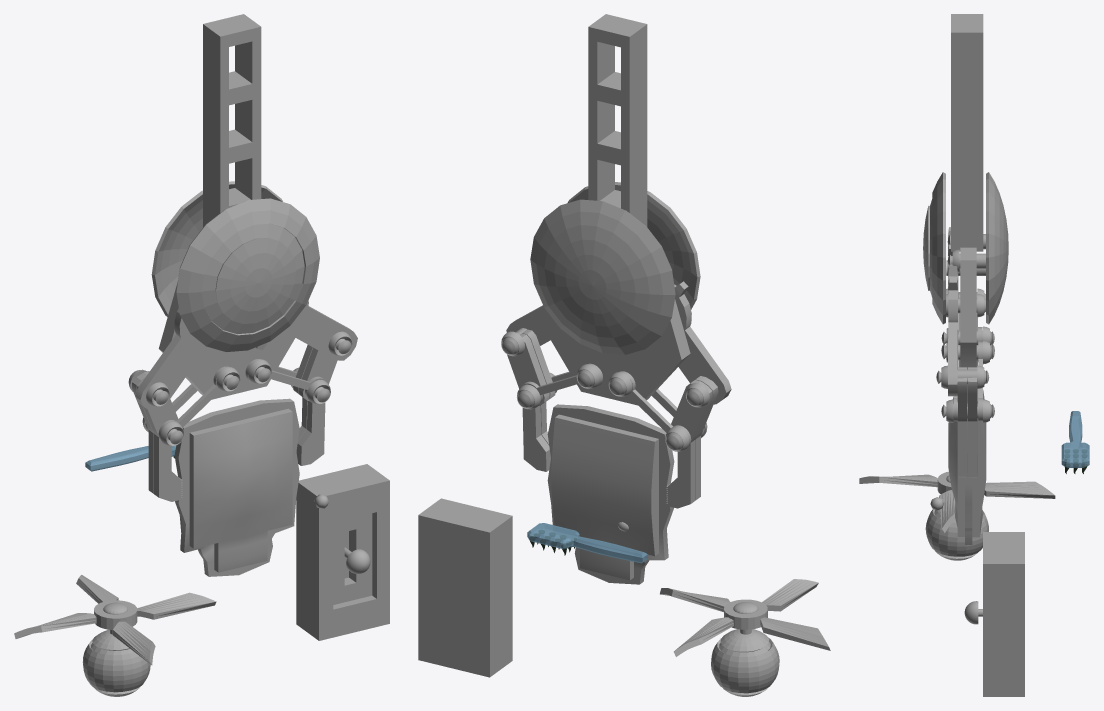
The picture shows the model from 3 angles, left to right: view 1: azimuth 30°, elevation 25°; view 2: azimuth 150°, elevation 25°; view 3: azimuth 270°, elevation 25°; orthographic projection. The views are drawn at different scales.
Visible parts, largest first — view 1: pSphere7, pCube55, pCube83, pCube77, polySurface60, pCube60, polySurface33, polySurface19, polySurface2, polySurface32, toothbrush:polySurface1, polySurface15 (+1 smaller); view 2: pSphere7, pCube55, pCube83, pCube77, polySurface60, pCube60, polySurface33, polySurface2, polySurface19, toothbrush:polySurface1, polySurface32, polySurface17; view 3: pCube77, pCube83, pSphere7, polySurface60, pCube55, polySurface33, pCube60, polySurface32, toothbrush:polySurface1, polySurface34, polySurface35, polySurface37.
Part boxes in pixels (x1=…): pSphere7: x1=151, y1=181, x2=319, y2=351; pCube55: x1=174, y1=398, x2=299, y2=576; pCube83: x1=296, y1=464, x2=389, y2=640; pCube77: x1=203, y1=14, x2=261, y2=227; polySurface60: x1=14, y1=575, x2=216, y2=696; pCube60: x1=158, y1=281, x2=295, y2=399; polySurface33: x1=293, y1=345, x2=337, y2=465; polySurface19: x1=135, y1=308, x2=216, y2=412; polySurface2: x1=132, y1=371, x2=181, y2=501; polySurface32: x1=256, y1=300, x2=357, y2=360; toothbrush:polySurface1: x1=85, y1=445, x2=176, y2=471; polySurface15: x1=158, y1=366, x2=229, y2=439; pSphere7: x1=530, y1=182, x2=700, y2=354; pCube55: x1=547, y1=404, x2=674, y2=584; pCube83: x1=418, y1=498, x2=512, y2=677; pCube77: x1=588, y1=14, x2=647, y2=226; polySurface60: x1=660, y1=579, x2=830, y2=696; pCube60: x1=542, y1=299, x2=690, y2=405; polySurface33: x1=507, y1=329, x2=555, y2=471; polySurface2: x1=668, y1=376, x2=718, y2=508; polySurface19: x1=674, y1=281, x2=731, y2=404; toothbrush:polySurface1: x1=527, y1=523, x2=647, y2=563; polySurface32: x1=506, y1=305, x2=550, y2=345; polySurface17: x1=618, y1=371, x2=691, y2=445; pCube77: x1=951, y1=14, x2=983, y2=251; pCube83: x1=983, y1=532, x2=1024, y2=696; pSphere7: x1=923, y1=172, x2=1008, y2=324; polySurface60: x1=859, y1=471, x2=1055, y2=560; pCube55: x1=948, y1=389, x2=986, y2=544; polySurface33: x1=957, y1=367, x2=977, y2=477; pCube60: x1=960, y1=247, x2=976, y2=369; polySurface32: x1=948, y1=264, x2=958, y2=396; toothbrush:polySurface1: x1=1061, y1=411, x2=1089, y2=467; polySurface34: x1=936, y1=365, x2=989, y2=388; polySurface35: x1=941, y1=399, x2=994, y2=422; polySurface37: x1=941, y1=340, x2=994, y2=364.
Bounding box in the file's own units: 23.9 × 38.81 × 13.54.
